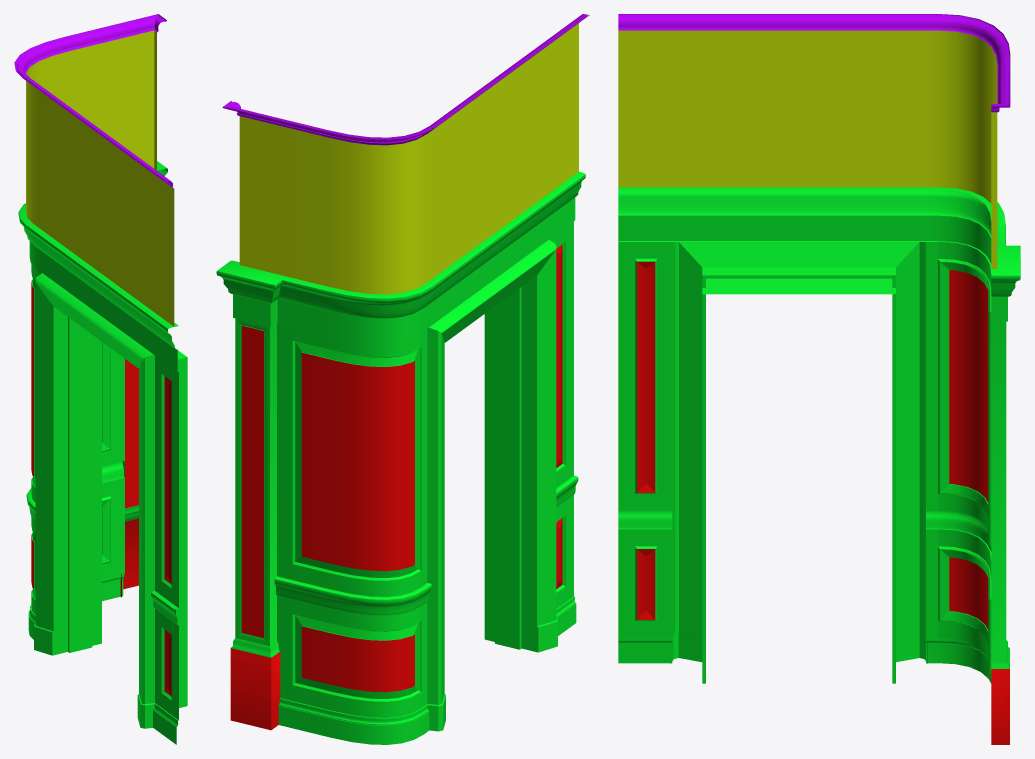
The model's file is AR-WallCornerRound_01.FBX.
3 renders of one model, left to right at view 1: azimuth 30°, elevation 25°; view 2: azimuth 150°, elevation 25°; view 3: azimuth 270°, elevation 25°, orthographic. The views are drawn at different scales.
Parts seen in each view (by area): view 1: AR-WallCornerRound_01; view 2: AR-WallCornerRound_01; view 3: AR-WallCornerRound_01.
Part boxes in pixels (box(x1,y1,x2,y2)): AR-WallCornerRound_01: box(14, 14, 187, 744); AR-WallCornerRound_01: box(216, 14, 589, 744); AR-WallCornerRound_01: box(618, 14, 1020, 744).
Bounding box in the file's own units: 118 × 380 × 216.
